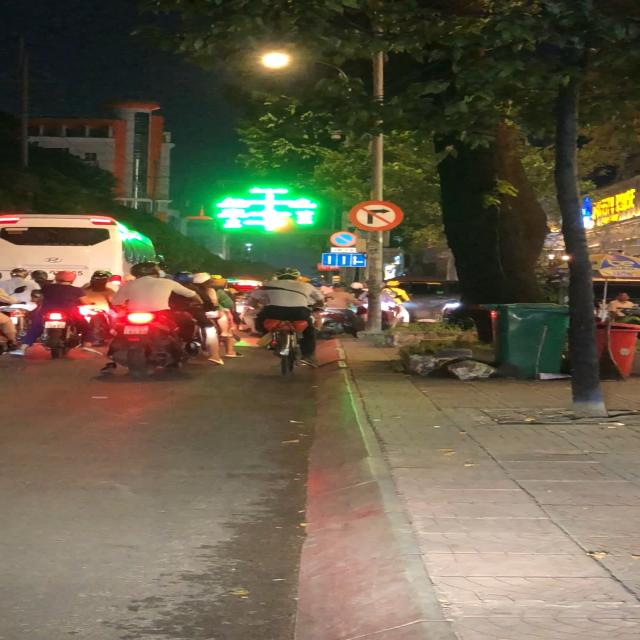Bien bao cam do xe: (330, 230, 357, 248)
Bien bao cam re phai: (348, 200, 404, 232)
